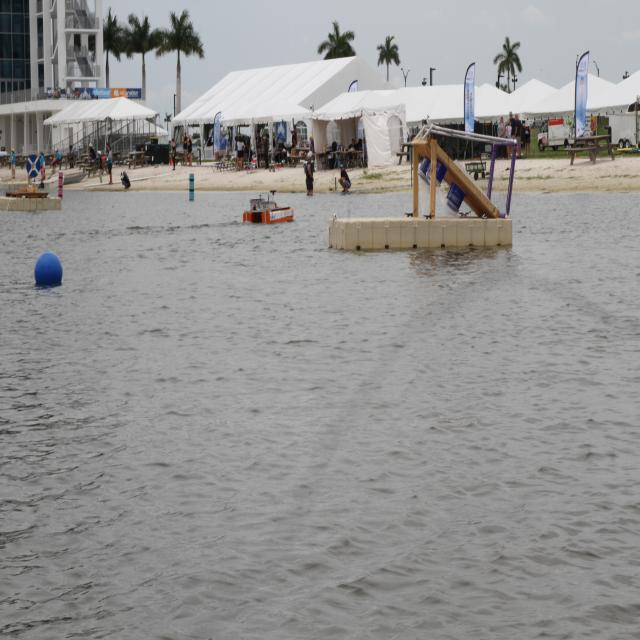buoy: (33, 248, 63, 291)
